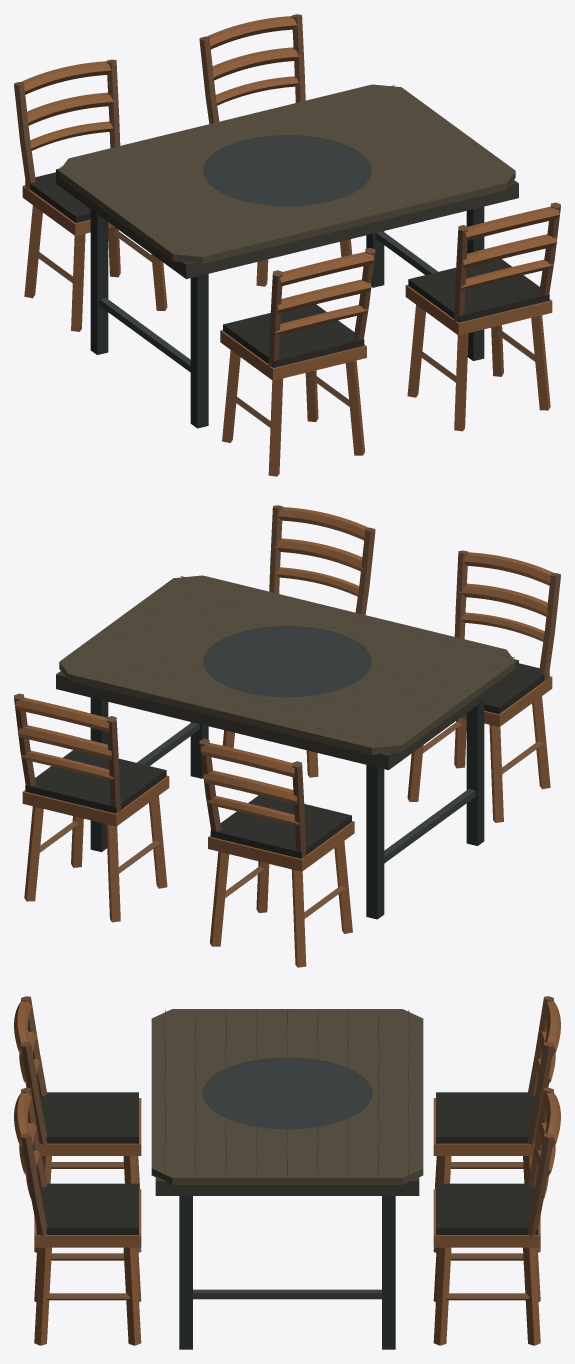
File: dining-set.glb
3 views of the same model, one above another, from view 1: azimuth 30°, elevation 25°; view 2: azimuth 150°, elevation 25°; view 3: azimuth 270°, elevation 25° (orthographic).
Parts seen in each view (by area): view 1: PoseokjeongTables; view 2: PoseokjeongTables; view 3: PoseokjeongTables.
Boxes of the visible parts, left/top/right/bottom form: PoseokjeongTables: left=14, top=14, right=560, bottom=476; PoseokjeongTables: left=14, top=505, right=560, bottom=967; PoseokjeongTables: left=14, top=996, right=560, bottom=1349.
Size of the model in its own units: 1.44 by 0.8486 by 1.97.
